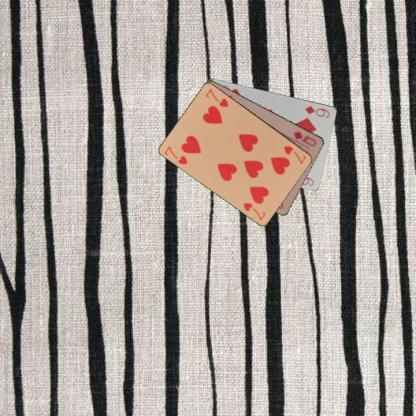6d: (302, 103, 331, 119)
7h: (162, 143, 189, 166), (282, 144, 308, 166)
Qd: (290, 128, 318, 148)
